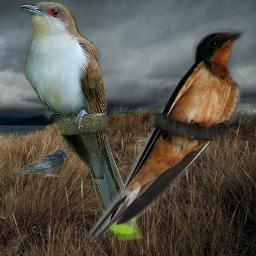Crow: (12, 149, 69, 177)
Cuckoo: (18, 0, 142, 241)
Swallow: (82, 26, 248, 242)
